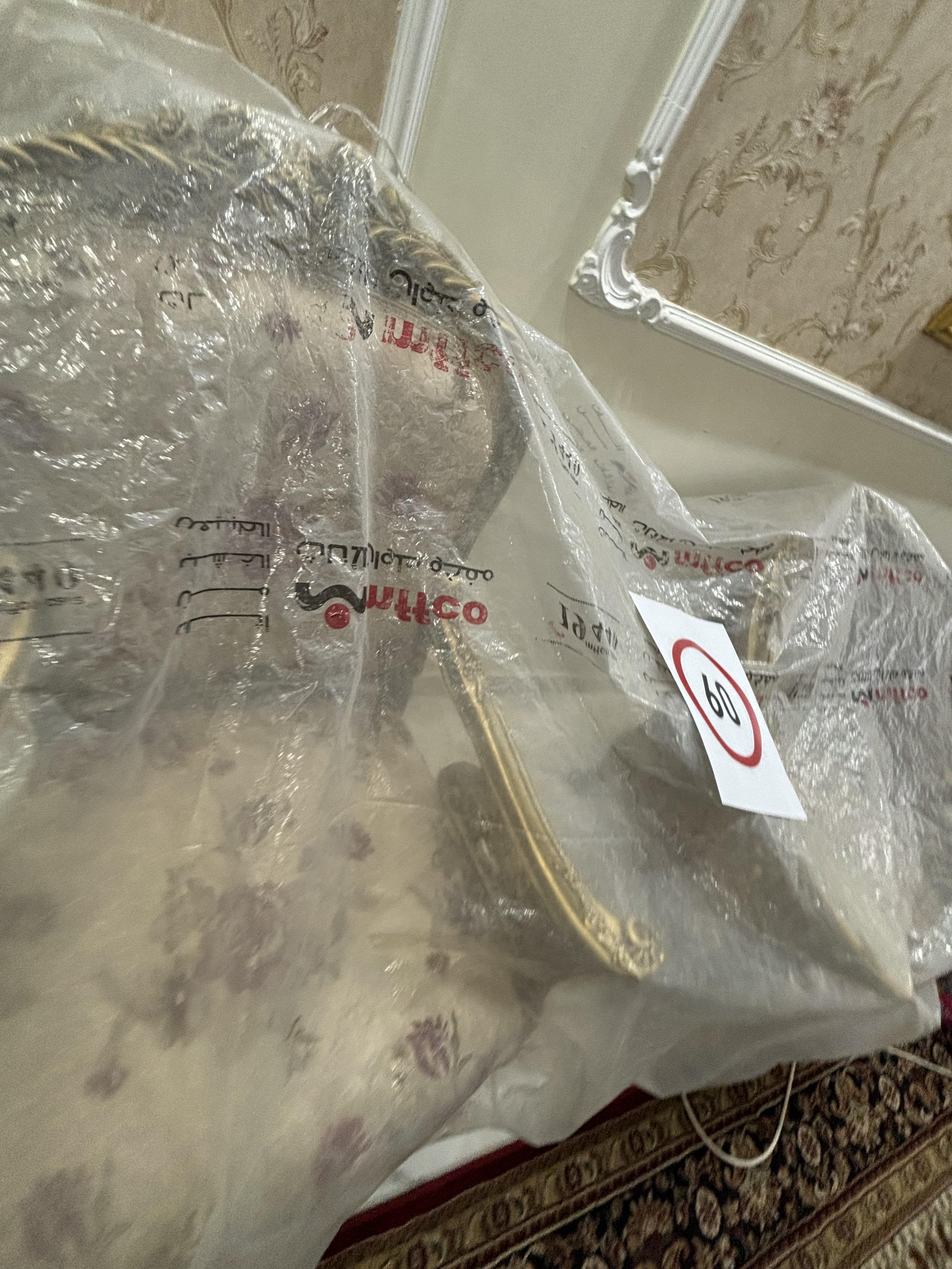60-Speed: (668, 632, 772, 775)
